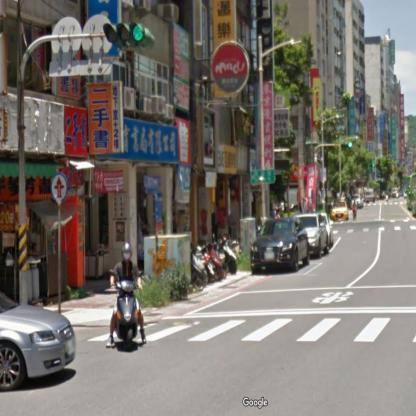Green Light: (104, 24, 154, 43)
